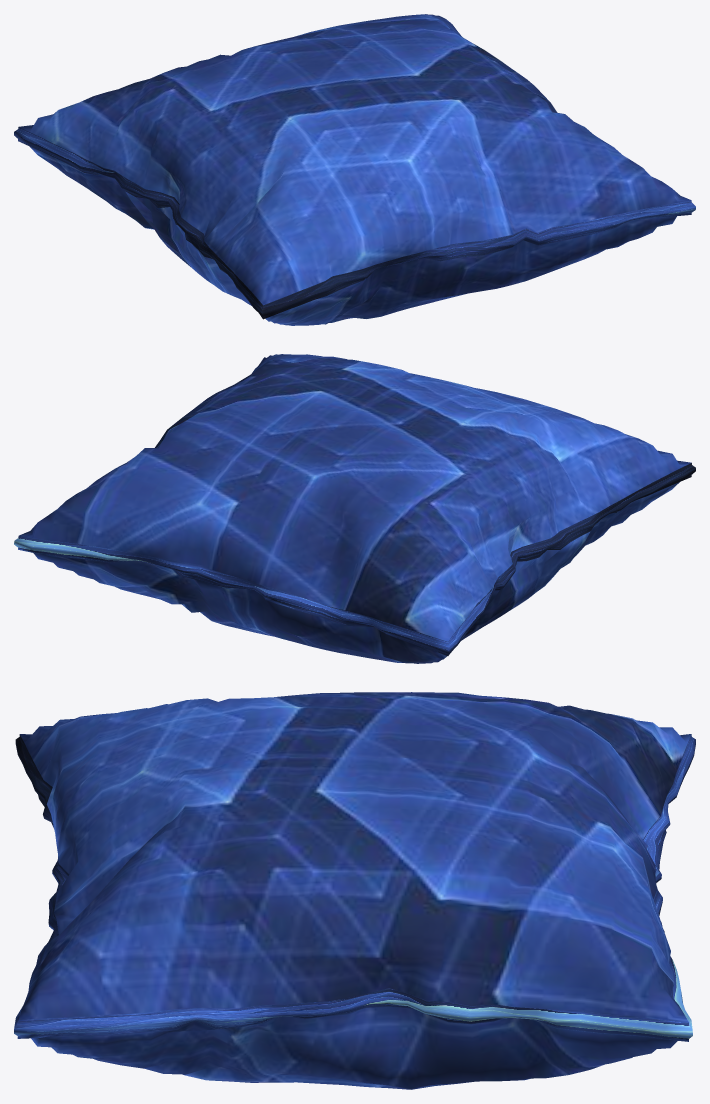
3 views of the same model, one above another, from view 1: azimuth 30°, elevation 25°; view 2: azimuth 150°, elevation 25°; view 3: azimuth 270°, elevation 25° (orthographic). The views are drawn at different scales.
Parts seen in each view (by area): view 1: Cube; view 2: Cube; view 3: Cube.
Boxes of the visible parts, box(x1,y1,x2,y2) form: Cube: box(14, 14, 695, 325); Cube: box(14, 354, 695, 663); Cube: box(14, 692, 695, 1089).
Bounding box in the file's own units: 1.95 × 0.8063 × 1.92.
Materials: 1 (1 with a texture image).
